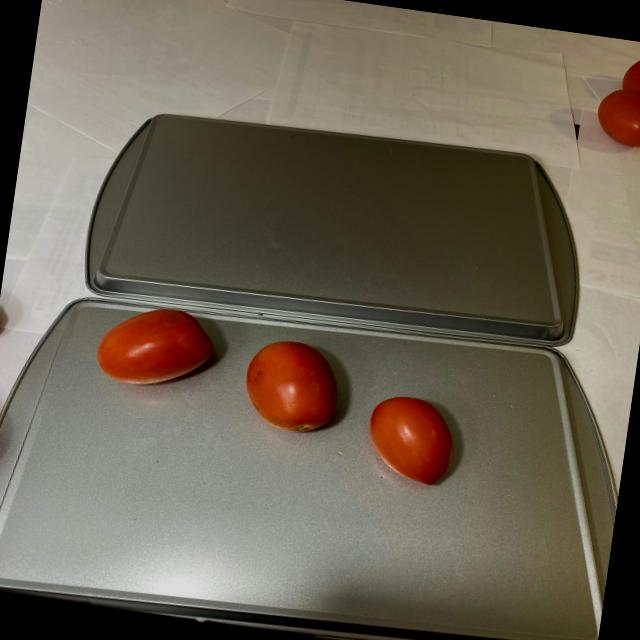tomato: (82, 298, 474, 498), (593, 46, 640, 159)
